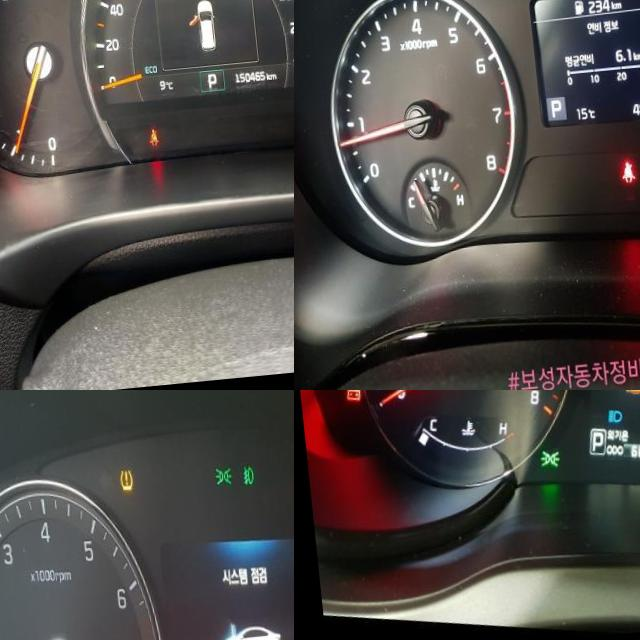FrontFogLight: (236, 470, 250, 494)
SideLamp: (528, 452, 551, 475), (210, 471, 228, 492)
